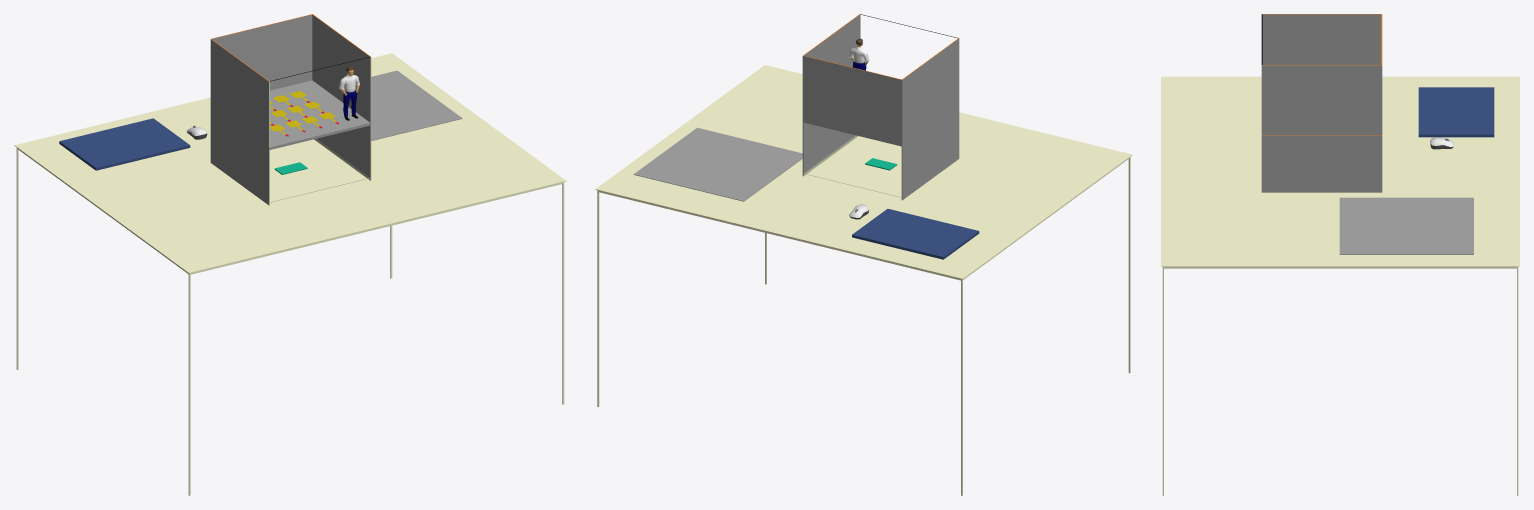
The model's file is Bathroom Demo (new).obj.
3 views of the same model, side by side, from view 1: azimuth 30°, elevation 25°; view 2: azimuth 150°, elevation 25°; view 3: azimuth 270°, elevation 25° (orthographic). The views are drawn at different scales.
Visible parts, largest first — view 1: table349, wall24 room23, wall27 exterior, general.box363, general.box347, wall25 room23, floor room23, wall209 exterior, wall206 room204, general.man332; view 2: table349, general.box363, wall24 exterior, wall27 exterior, general.box347, wall209 exterior, wall206 room204, wall25 room23; view 3: table349, wall25 exterior, general.box363, wall206 exterior, wall27 room23, general.box347.
Part boxes in pixels (x1,y1,x2,y2): table349: (14,53,566,495); wall24 room23: (212,14,312,90); wall27 exterior: (210,39,268,149); general.box363: (371,70,462,140); general.box347: (59,118,190,170); wall25 room23: (312,14,370,122); floor room23: (270,80,369,147); wall209 exterior: (210,108,268,205); wall206 room204: (317,125,370,177); general.man332: (339,67,359,120); table349: (595,65,1132,495); general.box363: (633,127,802,201); wall24 exterior: (802,56,902,146); wall27 exterior: (902,38,959,146); general.box347: (852,208,979,259); wall209 exterior: (902,105,959,199); wall206 room204: (803,123,855,173); wall25 room23: (804,14,860,67); table349: (1161,76,1519,495); wall25 exterior: (1261,65,1382,135); general.box363: (1339,197,1473,254); wall206 exterior: (1261,136,1382,192); wall27 room23: (1262,14,1381,64); general.box347: (1418,87,1494,137).
Bounding box in the file's own units: 15 × 13.2 × 12.
